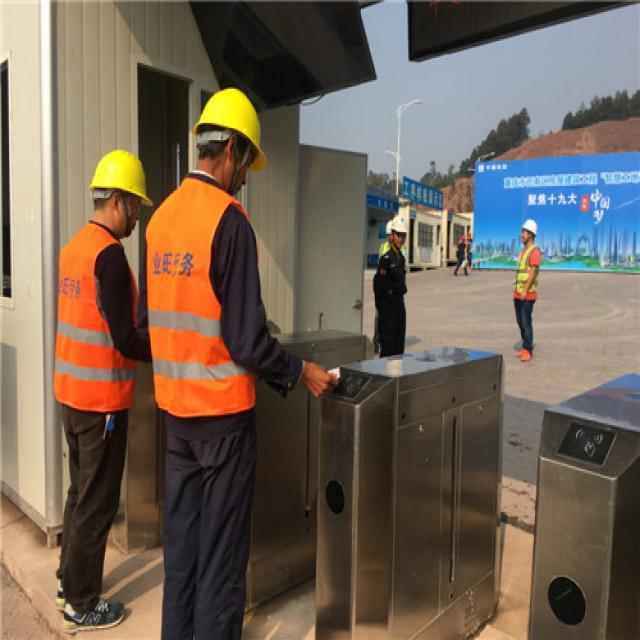Reflective-Jacket: (143, 185, 261, 422), (47, 224, 141, 416), (513, 244, 543, 302)
Safety-Helmet: (190, 84, 268, 170), (86, 144, 155, 208), (388, 213, 410, 236), (520, 217, 539, 236)
